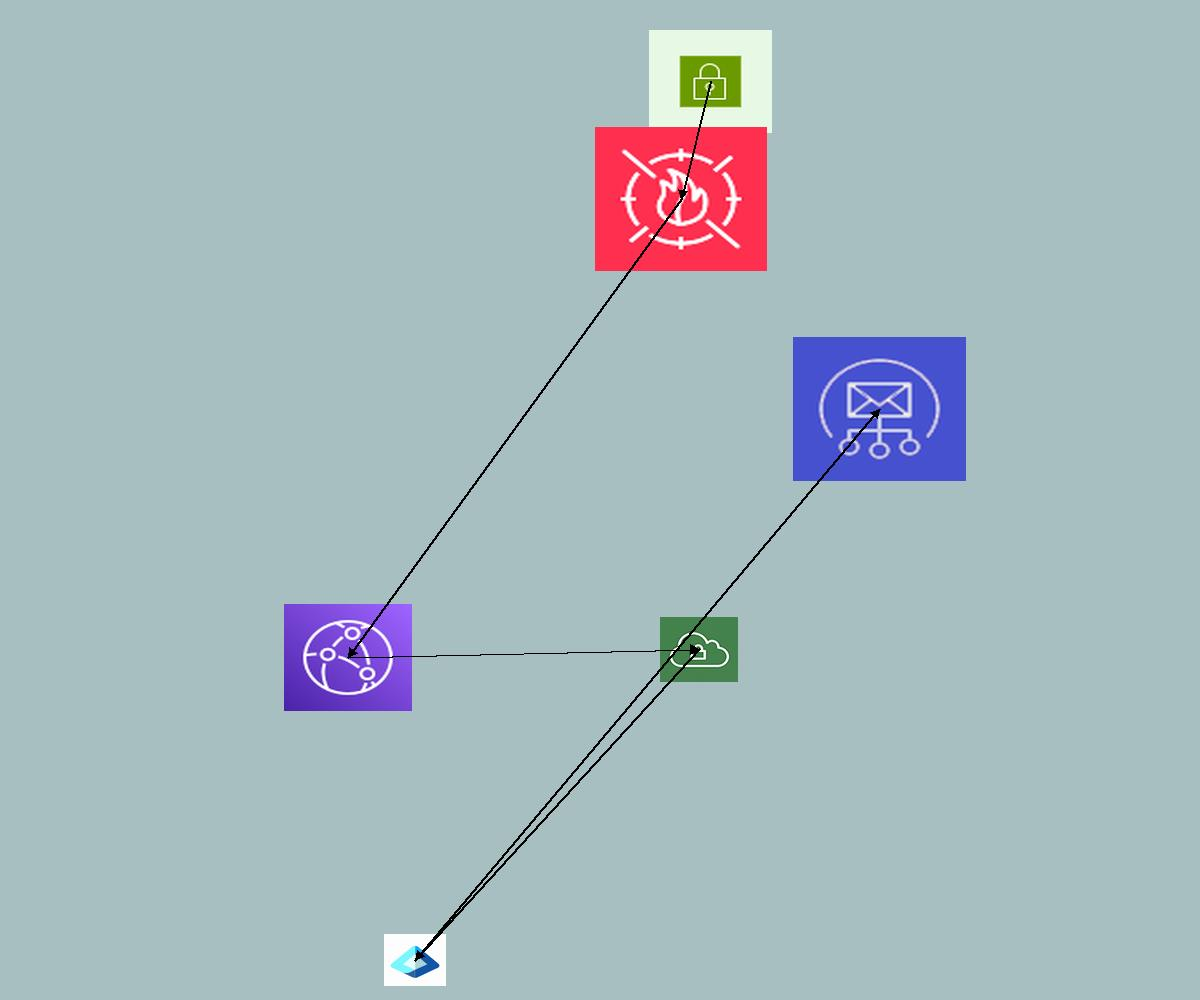AWS-CloudFront: (284, 604, 412, 711)
AWS-Private_vpc: (660, 617, 738, 682)
AWS-Public-subnet: (649, 30, 772, 133)
AWS-Simple-Email-Service: (793, 337, 966, 481)
AWS-WAF: (595, 127, 767, 271)
Azure_microsoft_entra: (384, 934, 446, 986)
